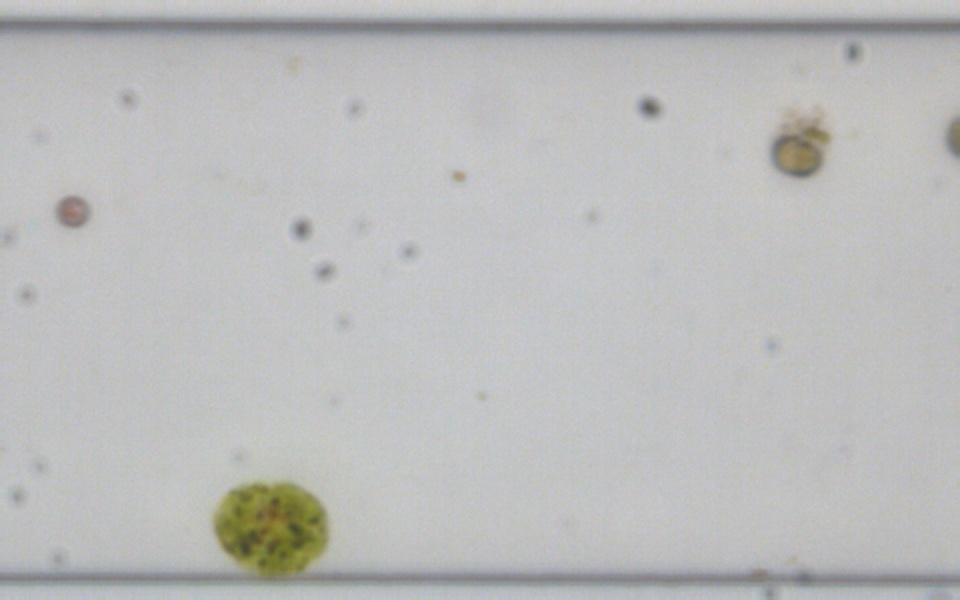Chlorella: (451, 168, 468, 183)
Effrenium: (767, 133, 822, 180)
Haematococcus: (208, 476, 334, 577)
Porphyridium: (53, 194, 91, 228)
